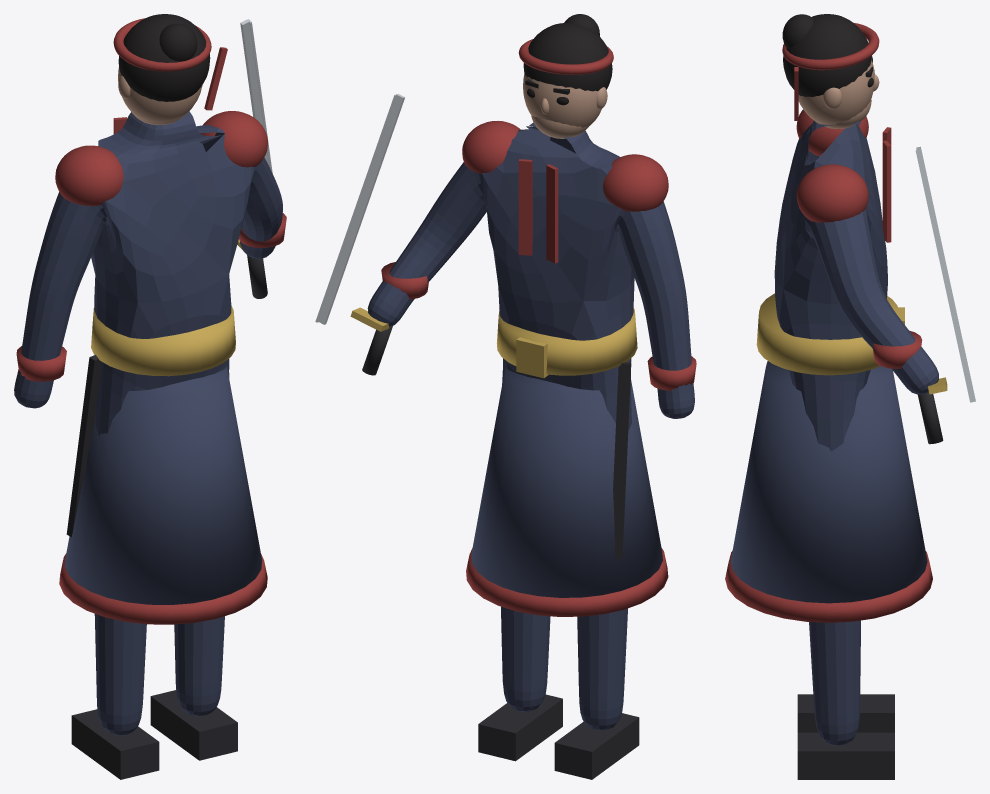
File: hero.glb
3 views of the same model, side by side, from view 1: azimuth 30°, elevation 25°; view 2: azimuth 150°, elevation 25°; view 3: azimuth 270°, elevation 25° (orthographic). The views are drawn at different scales.
Parts seen in each view (by area): view 1: Hero_Swordsman; view 2: Hero_Swordsman; view 3: Hero_Swordsman.
Boxes of the visible parts, <box> form: Hero_Swordsman: <box>14,14,286,779</box>; Hero_Swordsman: <box>315,14,696,779</box>; Hero_Swordsman: <box>725,14,975,779</box>.
Size of the model in its own units: 0.8227 by 1.79 by 0.5547.
